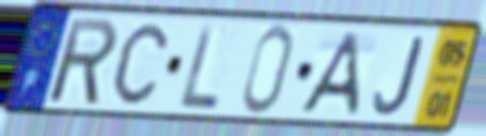0: (240, 20, 296, 118)
A: (295, 29, 363, 118)
C: (110, 20, 170, 108)
J: (371, 35, 426, 117)
L: (177, 20, 222, 112)
R: (47, 15, 121, 108)
